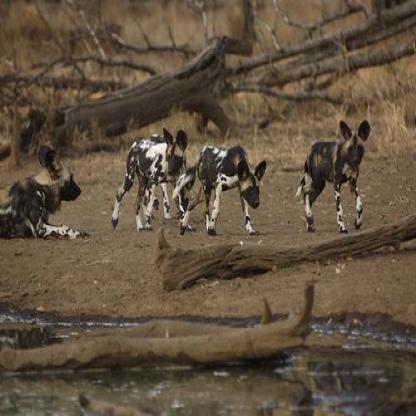African_hunting_dog: (286, 106, 384, 235), (0, 134, 95, 259), (169, 140, 267, 235), (110, 126, 195, 233)
